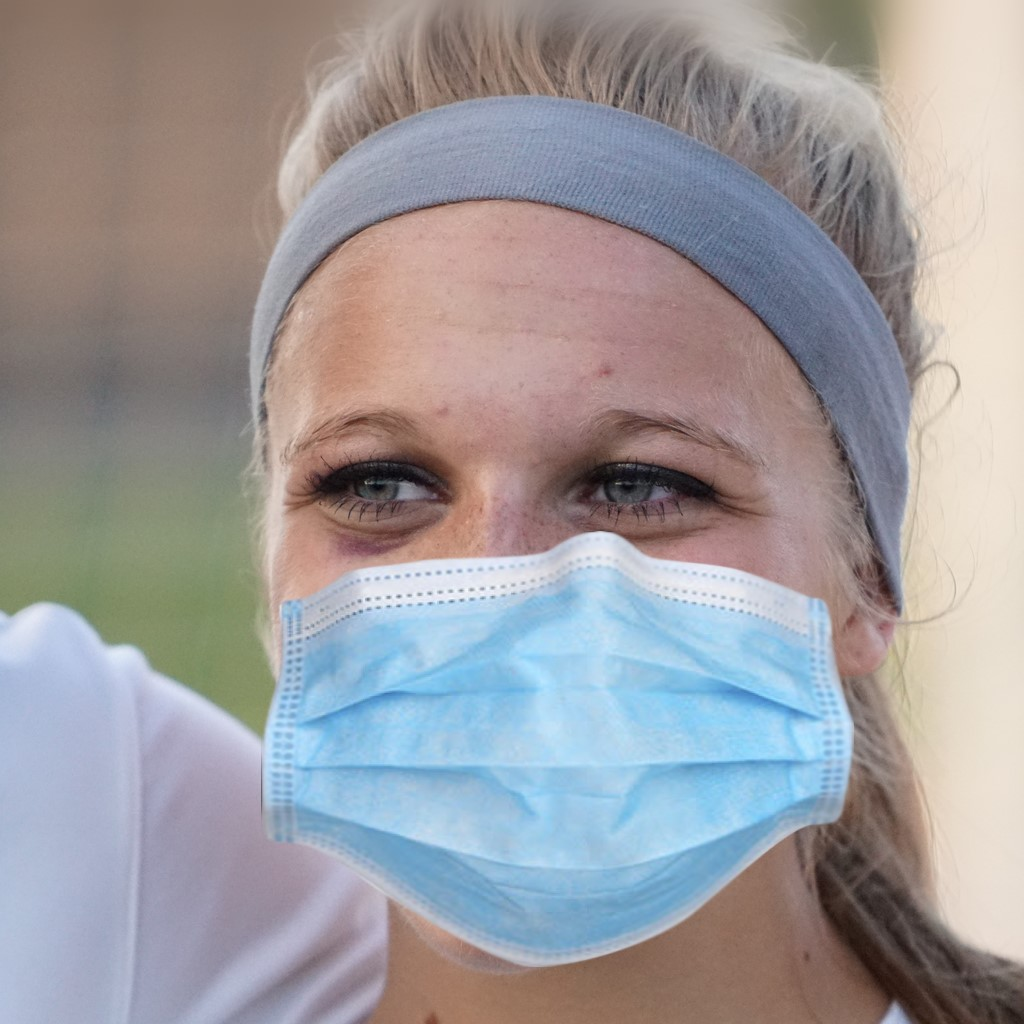con_mascara: (225, 170, 899, 965)
